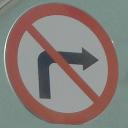NoVirarDireita: (3, 2, 124, 126)
